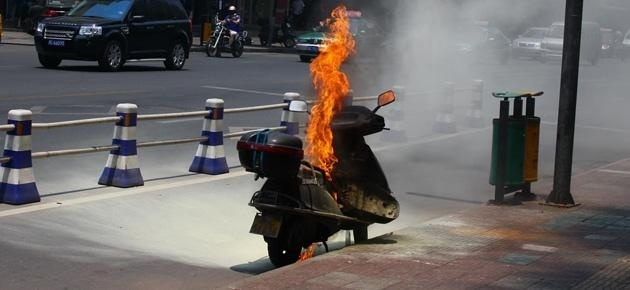fire: (303, 1, 358, 177)
